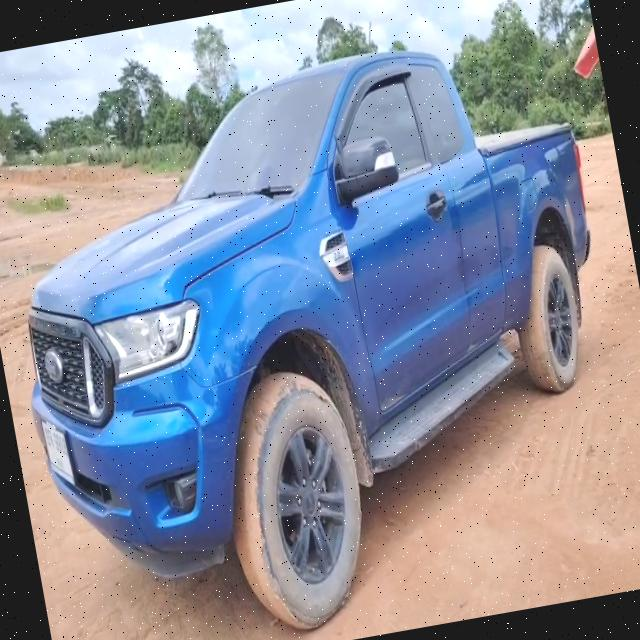Digit: (51, 431, 68, 456)
Licenseplate: (41, 419, 77, 487)
Provincename: (56, 457, 64, 470)
Thaichar: (43, 425, 55, 450)
